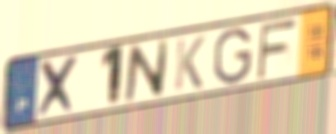1: (98, 42, 125, 109)
F: (255, 16, 299, 82)
G: (212, 26, 254, 87)
K: (172, 34, 208, 93)
N: (122, 37, 171, 105)
X: (35, 52, 83, 120)
